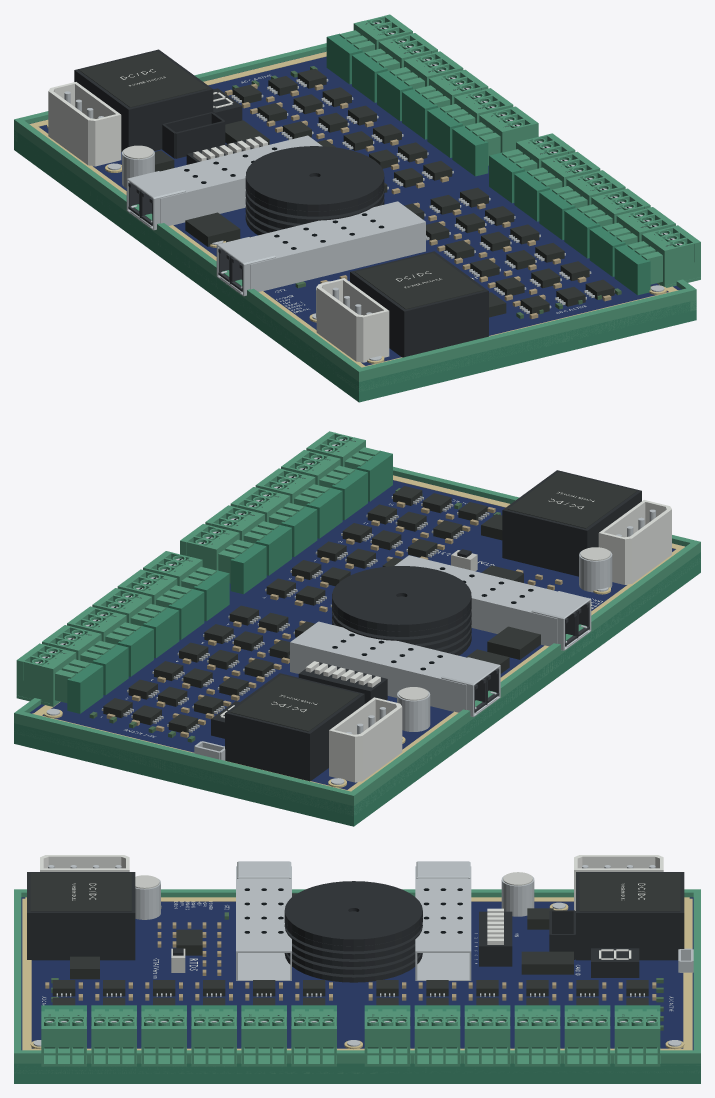
File: asset.glb
The picture shows the model from 3 angles, top to bottom: view 1: azimuth 30°, elevation 25°; view 2: azimuth 150°, elevation 25°; view 3: azimuth 270°, elevation 25°; orthographic projection.
Visible parts, largest first — view 1: gtai-v2-2.31.body, gtai-v2-2.31.carrier, gtai-v2-2.31.heatsink_top, gtai-v2-2.31.carrier_end-0.091, gtai-v2-2.31.dcdc_module2, gtai-v2-2.31.carrier_lip-0.051, gtai-v2-2.31.optical_cage_2_side-1, gtai-v2-2.31.power1.keyed_shroud, gtai-v2-2.31.power2.keyed_shroud, gtai-v2-2.31.dcdc_module1, gtai-v2-2.31.optical_cage_2_z0.01605, gtai-v2-2.31.dcdc_top1 (+28 smaller); view 2: gtai-v2-2.31.body, gtai-v2-2.31.carrier, gtai-v2-2.31.heatsink_top, gtai-v2-2.31.carrier_lip-0.051, gtai-v2-2.31.carrier_end0.091, gtai-v2-2.31.dcdc_module1, gtai-v2-2.31.dcdc_module2, gtai-v2-2.31.power1.keyed_shroud, gtai-v2-2.31.optical_cage_1_z0.01605, gtai-v2-2.31.power2.keyed_shroud, gtai-v2-2.31.dcdc_top2, gtai-v2-2.31.dcdc_top1 (+27 smaller); view 3: gtai-v2-2.31.body, gtai-v2-2.31.carrier, gtai-v2-2.31.heatsink_top, gtai-v2-2.31.dcdc_module2, gtai-v2-2.31.dcdc_module1, gtai-v2-2.31.carrier_lip0.051, gtai-v2-2.31.dcdc_top2, gtai-v2-2.31.dcdc_top1, gtai-v2-2.31.optical_cage_1_z0.01605, gtai-v2-2.31.optical_cage_2_z0.01605, gtai-v2-2.31.carrier_lip-0.051, gtai-v2-2.31.power1.keyed_shroud (+61 smaller).
Part boxes in pixels (bbox=[...]): gtai-v2-2.31.body: bbox=[30, 51, 681, 365]; gtai-v2-2.31.carrier: bbox=[14, 130, 696, 402]; gtai-v2-2.31.heatsink_top: bbox=[245, 146, 384, 211]; gtai-v2-2.31.carrier_end-0.091: bbox=[355, 287, 696, 391]; gtai-v2-2.31.dcdc_module2: bbox=[350, 251, 488, 357]; gtai-v2-2.31.carrier_lip-0.051: bbox=[15, 119, 365, 389]; gtai-v2-2.31.optical_cage_2_side-1: bbox=[250, 221, 425, 291]; gtai-v2-2.31.power1.keyed_shroud: bbox=[48, 82, 121, 166]; gtai-v2-2.31.power2.keyed_shroud: bbox=[316, 278, 389, 362]; gtai-v2-2.31.dcdc_module1: bbox=[74, 49, 213, 151]; gtai-v2-2.31.optical_cage_2_z0.01605: bbox=[250, 201, 425, 264]; gtai-v2-2.31.dcdc_top1: bbox=[79, 51, 207, 107]; gtai-v2-2.31.body: bbox=[30, 477, 682, 789]; gtai-v2-2.31.carrier: bbox=[14, 552, 700, 826]; gtai-v2-2.31.heatsink_top: bbox=[332, 566, 471, 631]; gtai-v2-2.31.carrier_lip-0.051: bbox=[348, 541, 700, 815]; gtai-v2-2.31.carrier_end0.091: bbox=[14, 710, 357, 815]; gtai-v2-2.31.dcdc_module1: bbox=[225, 673, 364, 781]; gtai-v2-2.31.dcdc_module2: bbox=[502, 470, 641, 576]; gtai-v2-2.31.power1.keyed_shroud: bbox=[329, 697, 402, 782]; gtai-v2-2.31.optical_cage_1_z0.01605: bbox=[290, 621, 466, 686]; gtai-v2-2.31.power2.keyed_shroud: bbox=[598, 500, 671, 584]; gtai-v2-2.31.dcdc_top2: bbox=[507, 472, 636, 528]; gtai-v2-2.31.dcdc_top1: bbox=[230, 675, 359, 731]; gtai-v2-2.31.body: bbox=[21, 897, 693, 1050]; gtai-v2-2.31.carrier: bbox=[14, 1063, 700, 1083]; gtai-v2-2.31.heatsink_top: bbox=[284, 881, 422, 946]; gtai-v2-2.31.dcdc_module2: bbox=[27, 872, 135, 960]; gtai-v2-2.31.dcdc_module1: bbox=[576, 872, 684, 960]; gtai-v2-2.31.carrier_lip0.051: bbox=[16, 1050, 693, 1073]; gtai-v2-2.31.dcdc_top2: bbox=[30, 873, 131, 911]; gtai-v2-2.31.dcdc_top1: bbox=[579, 873, 680, 911]; gtai-v2-2.31.optical_cage_1_z0.01605: bbox=[415, 868, 471, 952]; gtai-v2-2.31.optical_cage_2_z0.01605: bbox=[236, 869, 291, 952]; gtai-v2-2.31.carrier_lip-0.051: bbox=[15, 889, 698, 897]; gtai-v2-2.31.power1.keyed_shroud: bbox=[574, 855, 663, 910].
Size of the model in its own units: 0.1105 by 0.0218 by 0.184.
